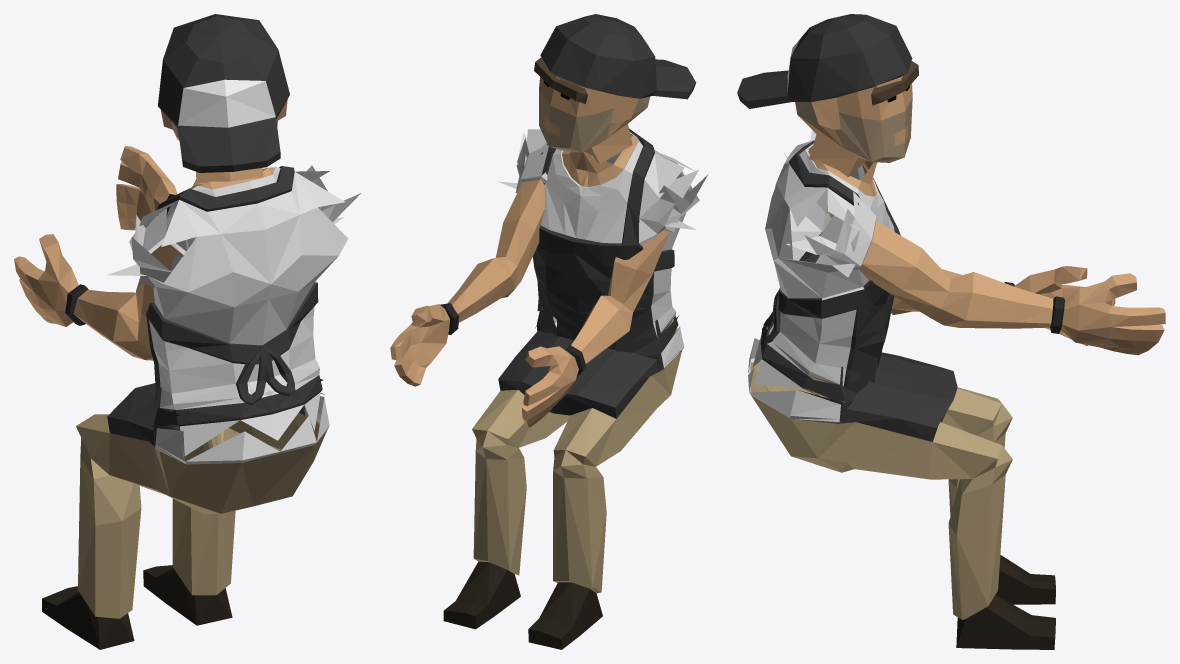
The model's file is Cop_hopes.obj.
3 views of the same model, side by side, from view 1: azimuth 30°, elevation 25°; view 2: azimuth 150°, elevation 25°; view 3: azimuth 270°, elevation 25° (orthographic). The views are drawn at different scales.
Visible parts, largest first — view 1: Cop_hopes; view 2: Cop_hopes; view 3: Cop_hopes.
Part boxes in pixels (x1,y1,x2,y2): Cop_hopes: (14, 14, 360, 649); Cop_hopes: (390, 14, 708, 649); Cop_hopes: (737, 14, 1165, 649).
Bounding box in the file's own units: 0.5658 × 1.48 × 0.965.
1 material, 1 textured.
